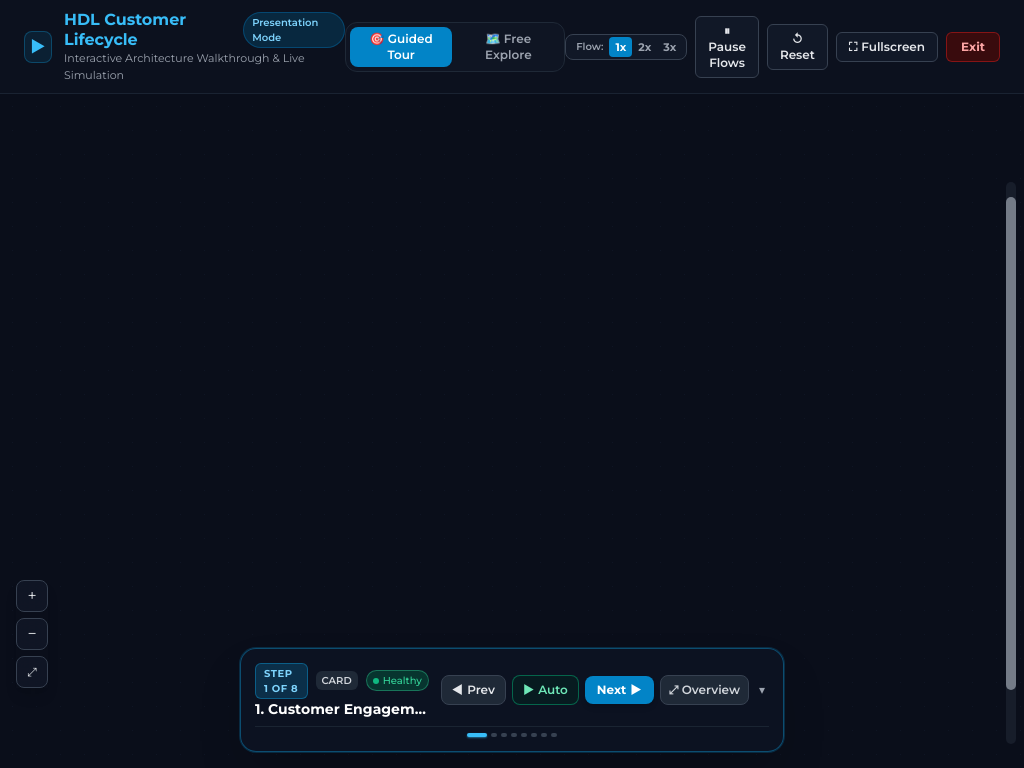
it: PresentMode › displays Guided Tour HUD and steps forward/backward
This screenshot has width=1024, height=768.
Check: the text "STEP 1 OF 8" is shown, box [255,662,308,698]
Check: the text "Prev" is shown, box [467,682,495,698]
# Advance step
Click the text "Next": (612, 690) [597,682,626,698]
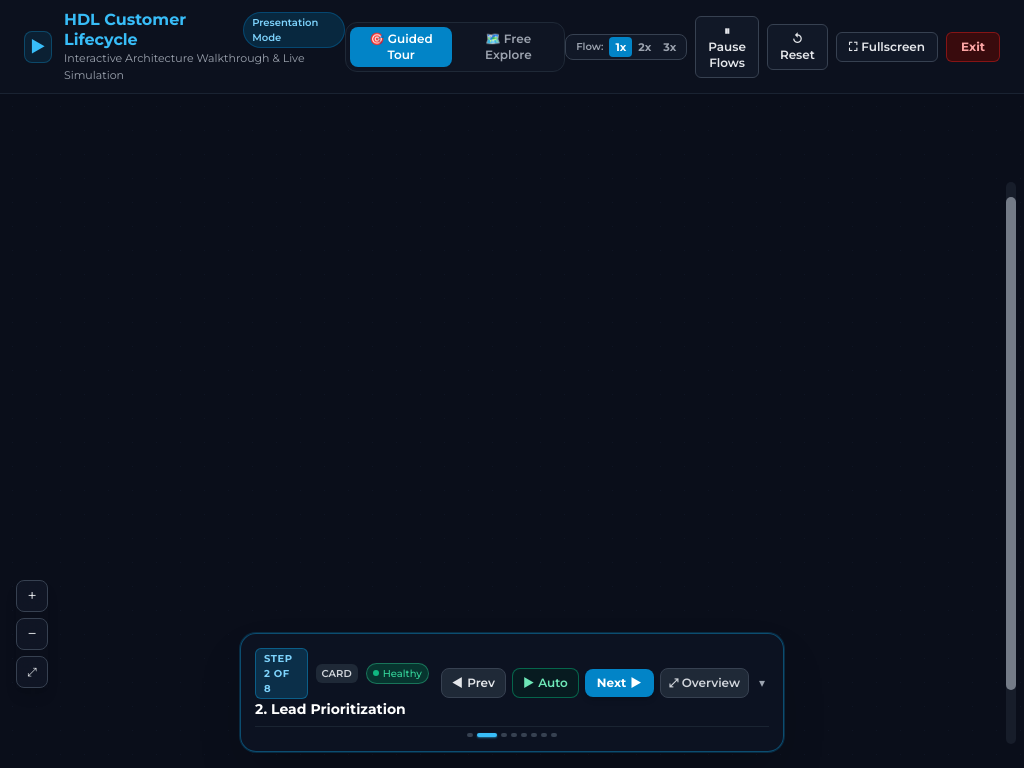
Check: the text "STEP 2 OF 8" is shown, box [255,648,308,698]
# Step backward
Click the text "Prev": (481, 683) [467,675,495,691]
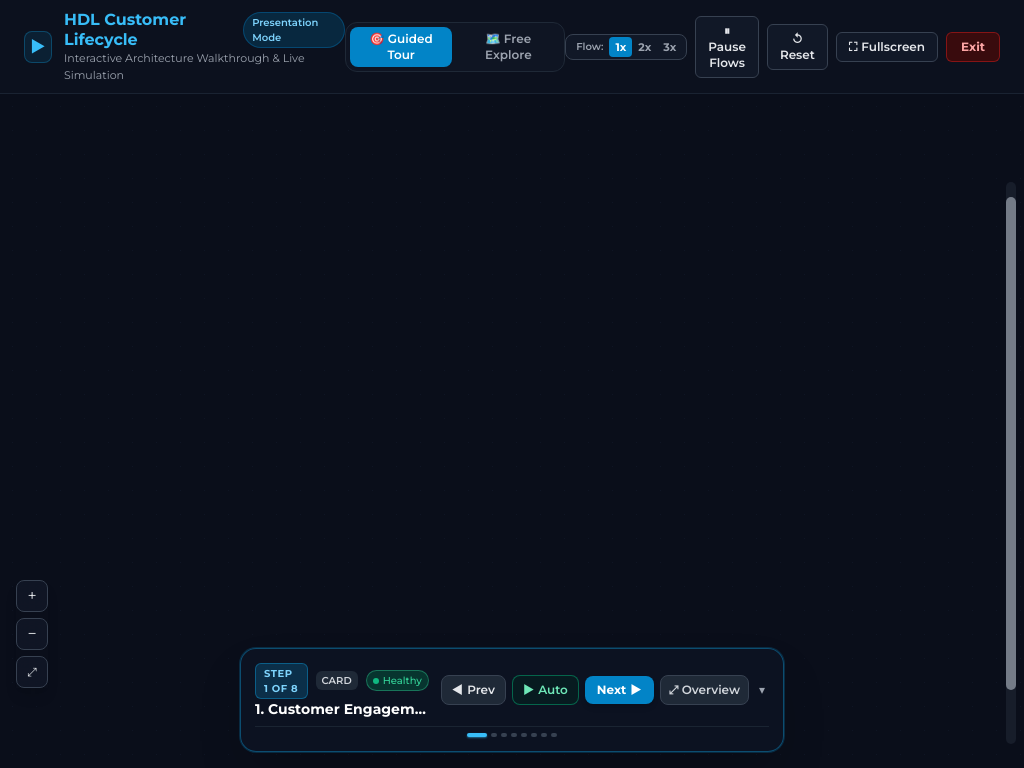
Check: the text "STEP 1 OF 8" is shown, box [255,662,308,698]
